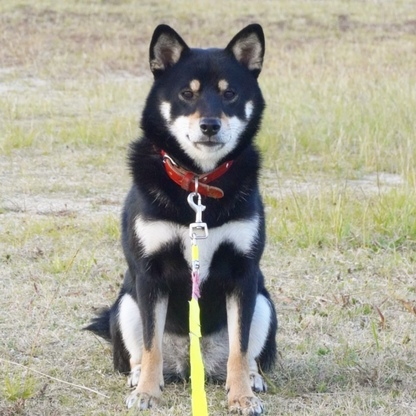shiba: (80, 18, 288, 416)
